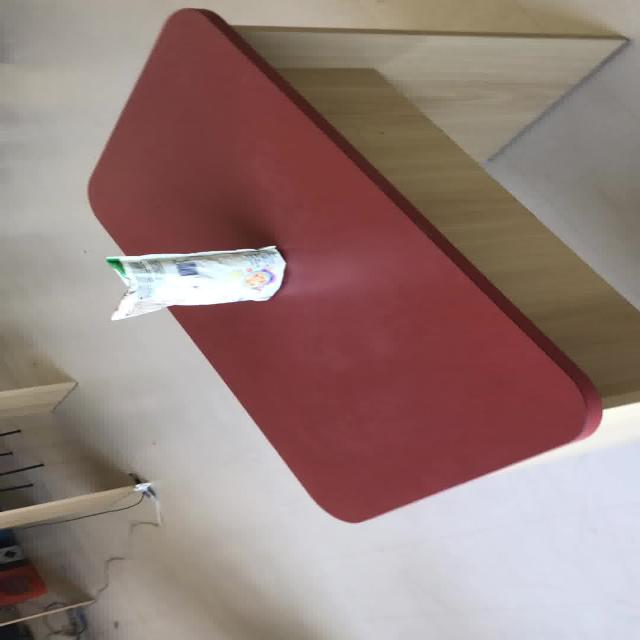corn flakes: (103, 244, 286, 321)
